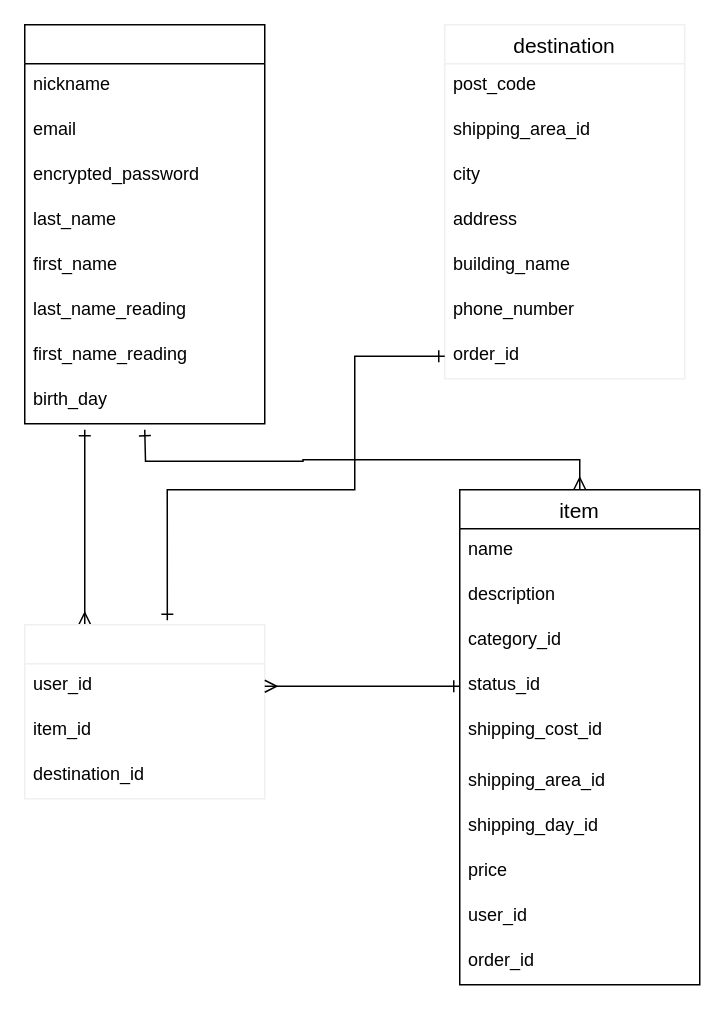
The diagram is 725 pixels wide and 1010 high, and some of its shapes have lost their labels. The box of each missing label's shape, as (x1, y1, x2, y2) in pixels:
order: (23, 623, 265, 799)
user: (23, 23, 265, 424)
